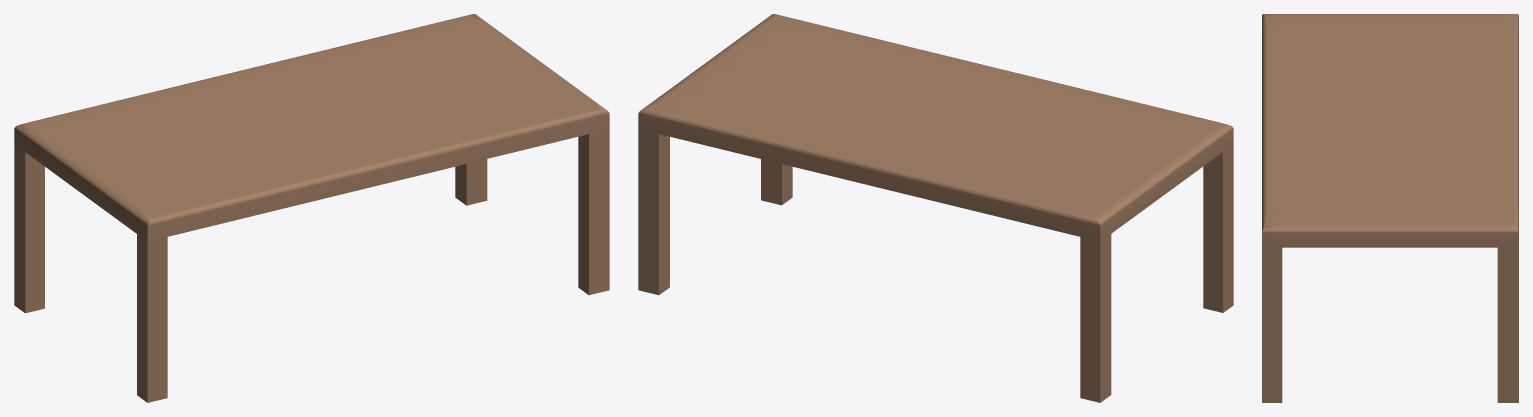
The model's file is table.fbx.
3 views of the same model, side by side, from view 1: azimuth 30°, elevation 25°; view 2: azimuth 150°, elevation 25°; view 3: azimuth 270°, elevation 25° (orthographic). The views are drawn at different scales.
Parts seen in each view (by area): view 1: table; view 2: table; view 3: table.
Part boxes in pixels (left/top/right/bottom): table: left=14, top=14, right=609, bottom=402; table: left=638, top=14, right=1233, bottom=402; table: left=1262, top=14, right=1518, bottom=402.
Size of the model in its own units: 120 by 45 by 60.
